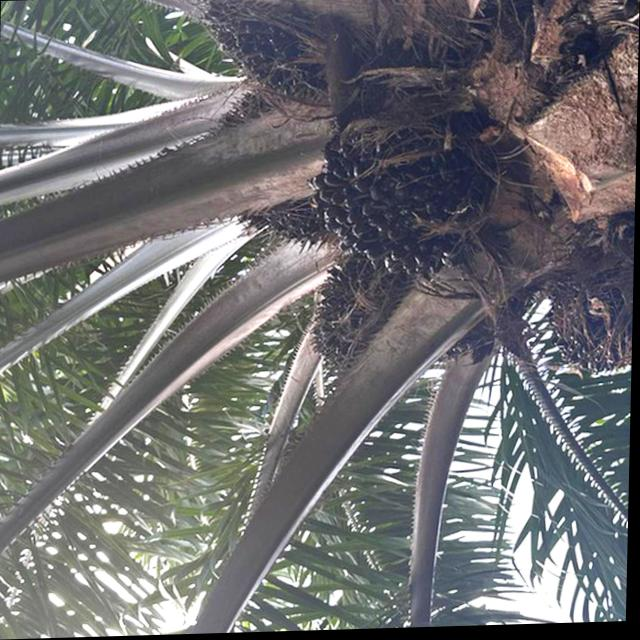unripe: (301, 115, 498, 290)
